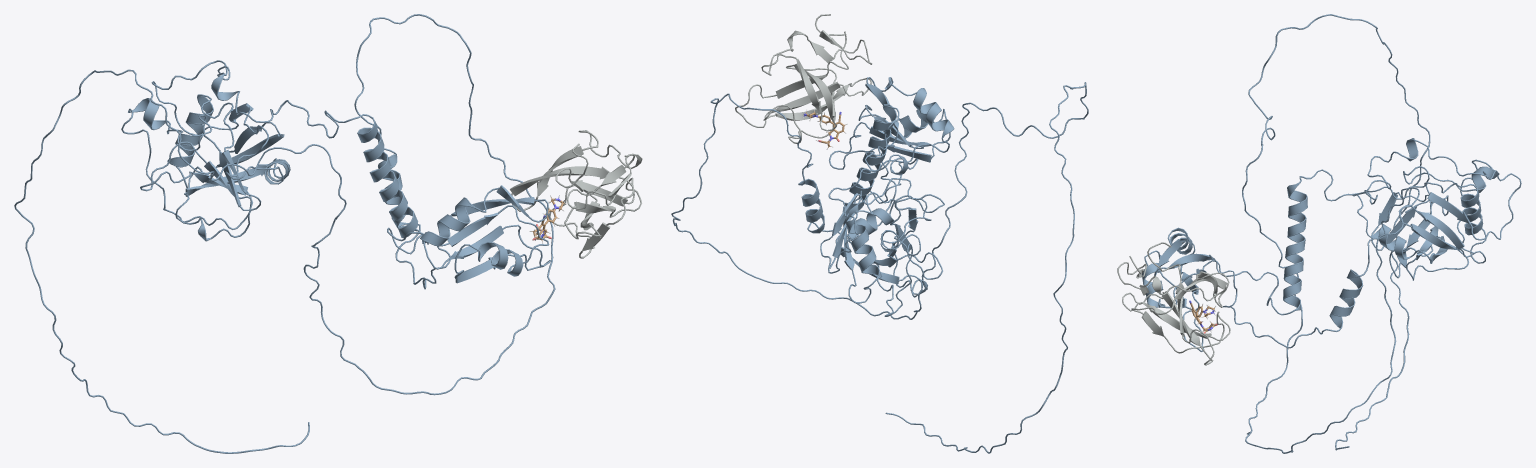
3 views of the same model, side by side, from view 1: azimuth 30°, elevation 25°; view 2: azimuth 150°, elevation 25°; view 3: azimuth 270°, elevation 25° (orthographic). The views are drawn at different scales.
Visible parts, largest first — view 1: node-geom98, node-geom99; view 2: node-geom98, node-geom99; view 3: node-geom98, node-geom99.
Boxes of the visible parts, x1=… form: node-geom98: x1=121, y1=60, x2=642, y2=258; node-geom99: x1=14, y1=14, x2=555, y2=453; node-geom98: x1=735, y1=14, x2=944, y2=316; node-geom99: x1=671, y1=77, x2=1088, y2=453; node-geom98: x1=1117, y1=138, x2=1521, y2=365; node-geom99: x1=1142, y1=14, x2=1430, y2=453.
Size of the model in its own units: 131 by 106 by 106.
